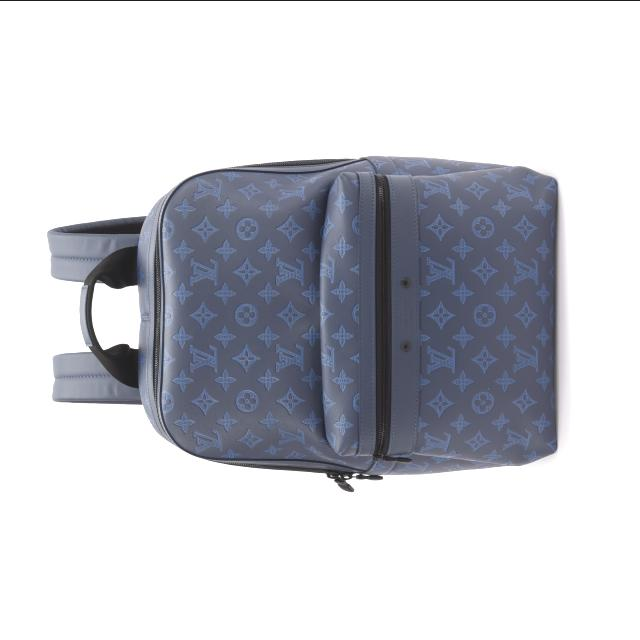backpack: (48, 155, 560, 491)
